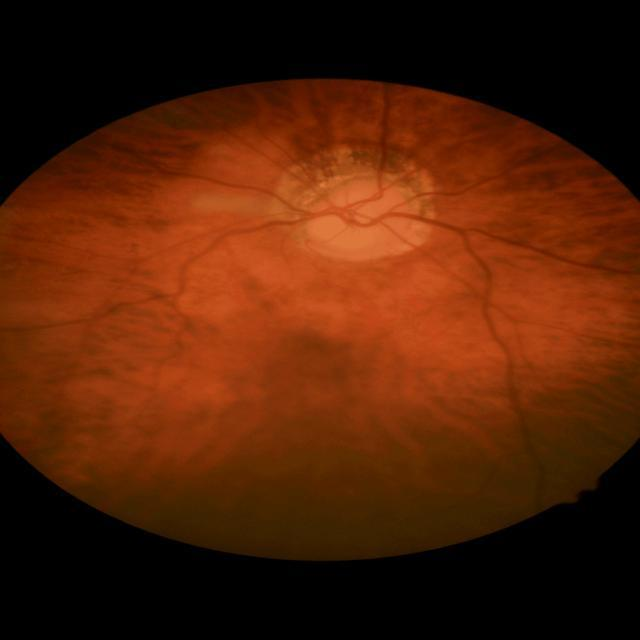cup: (330, 195, 394, 238)
disk: (306, 173, 412, 253)
